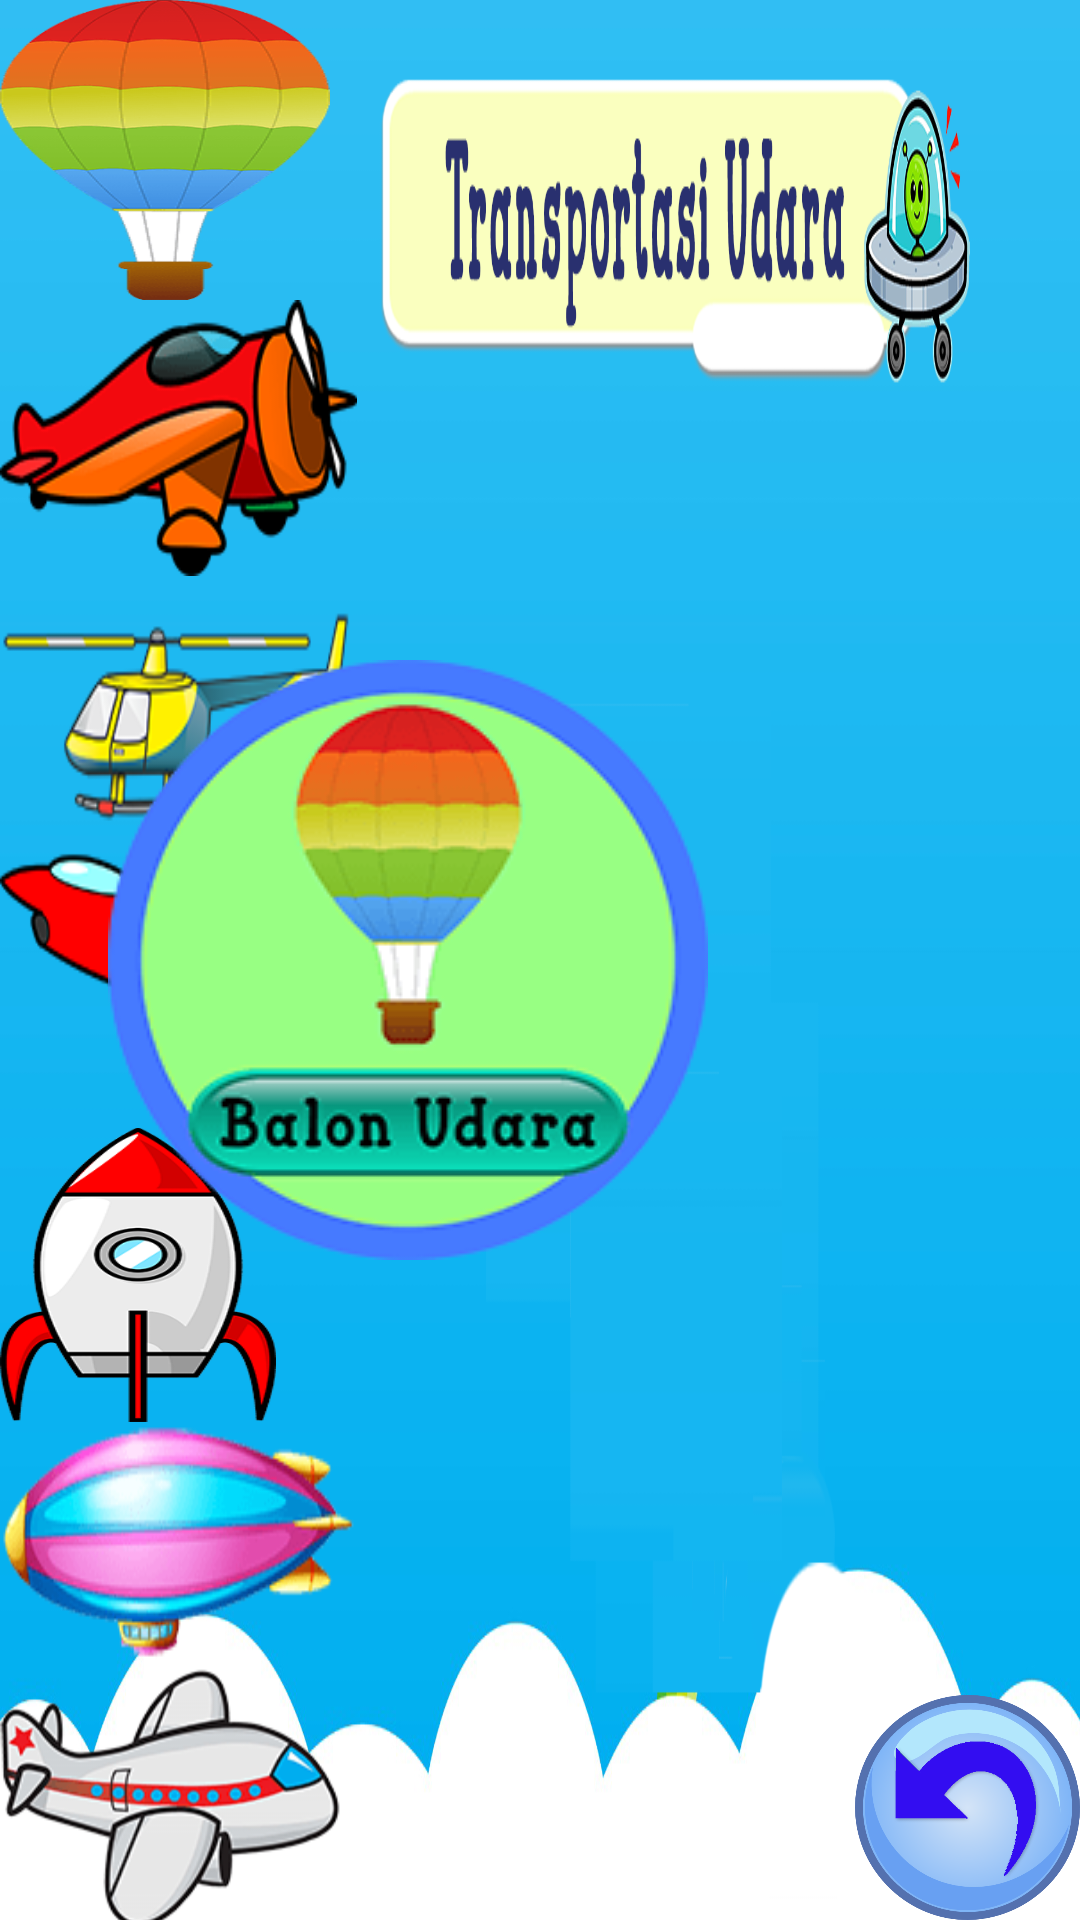

Point at icon controls on the screen. Image size 1080 x 1920, points as point (x, y).
back: point (967, 1807)
pesawat: point (178, 1791)
roket: point (138, 1275)
zep: point (178, 1544)
